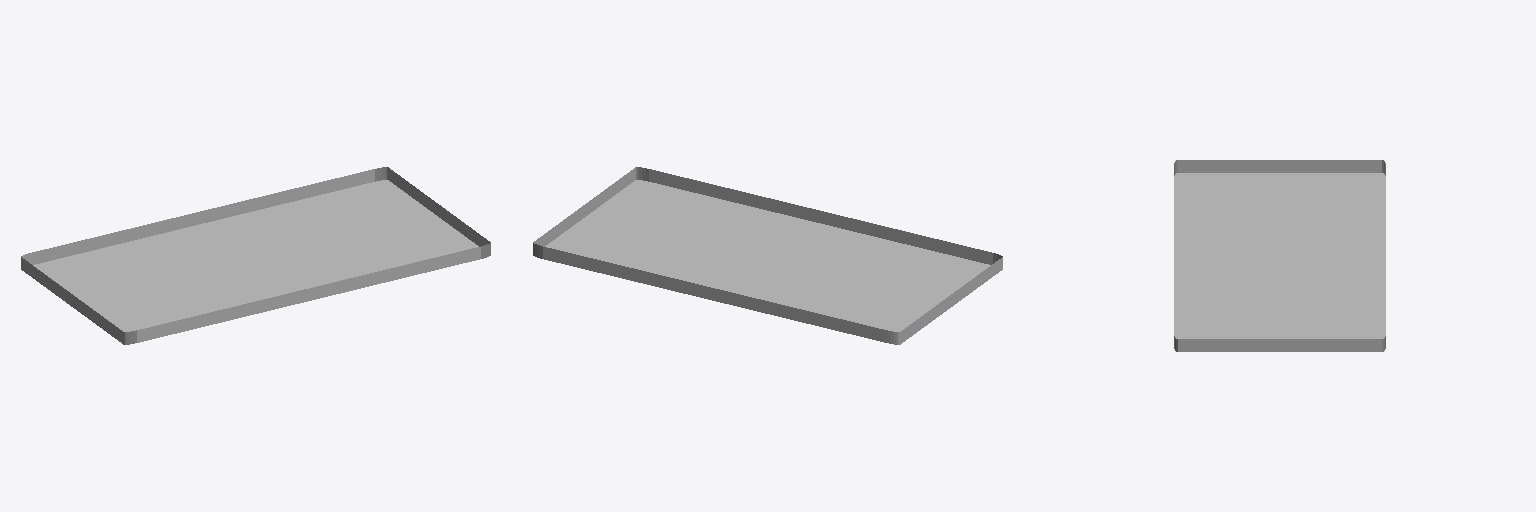
File: plateau_30.obj
3 renders of one model, left to right at view 1: azimuth 30°, elevation 25°; view 2: azimuth 150°, elevation 25°; view 3: azimuth 270°, elevation 25°, orthographic.
Parts seen in each view (by area): view 1: Cube.000_Cube.004; view 2: Cube.000_Cube.004; view 3: Cube.000_Cube.004.
Part boxes in pixels (x1,y1,x2,y2): Cube.000_Cube.004: (21,167,490,344); Cube.000_Cube.004: (533,167,1002,344); Cube.000_Cube.004: (1174,160,1385,351).
Size of the model in its own units: 60 by 2 by 30.